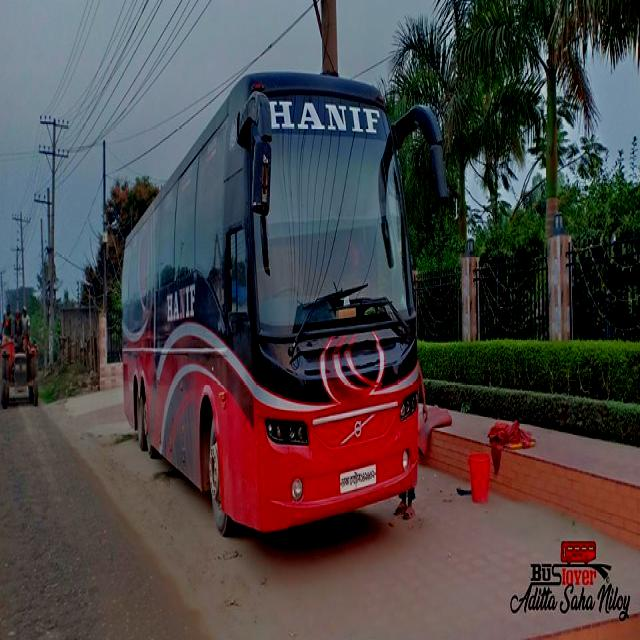bus: (121, 66, 451, 539)
